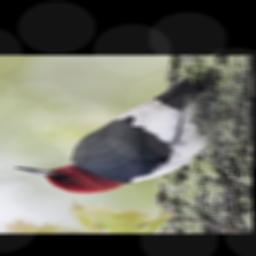Woodpecker: (3, 69, 231, 195)
